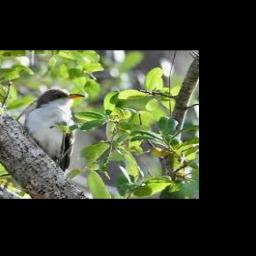Cuckoo: (24, 88, 85, 173)
